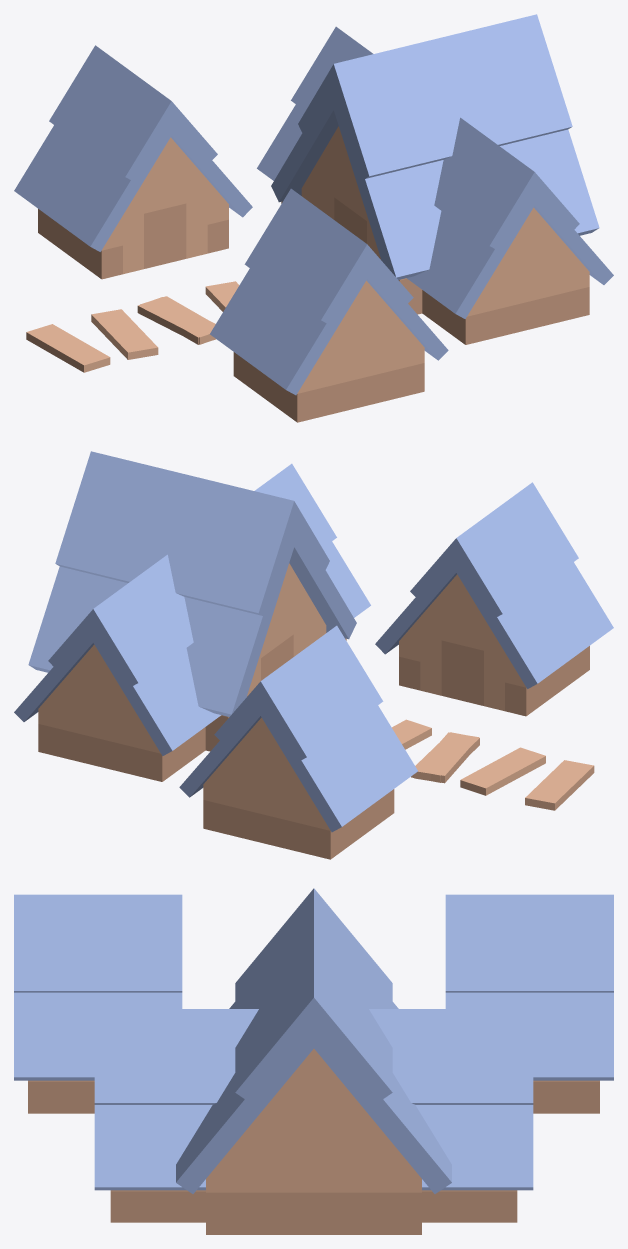
Rendered from Townhalllvl3.fbx.
3 renders of one model, top to bottom at view 1: azimuth 30°, elevation 25°; view 2: azimuth 150°, elevation 25°; view 3: azimuth 270°, elevation 25°, orthographic. The views are drawn at different scales.
Visible parts, largest first — view 1: Building, building.001, building, Path.001, Path.002; view 2: Building, building, building.001, Path.001, Path.002; view 3: Building, building, building.001.
Boxes of the visible parts, left/top/right/bottom form: Building: left=257, top=14, right=613, bottom=344; building.001: left=210, top=188, right=448, bottom=422; building: left=14, top=45, right=252, bottom=279; Path.001: left=26, top=297, right=215, bottom=372; Path.002: left=140, top=281, right=239, bottom=344; Building: left=14, top=451, right=370, bottom=781; building: left=179, top=625, right=417, bottom=859; building.001: left=375, top=482, right=613, bottom=716; Path.001: left=414, top=732, right=594, bottom=810; Path.002: left=392, top=719, right=479, bottom=782; Building: left=94, top=888, right=533, bottom=1234; building: left=445, top=894, right=613, bottom=1113; building.001: left=14, top=894, right=182, bottom=1113.
Size of the model in its own units: 86.28 by 37.81 by 83.4.
